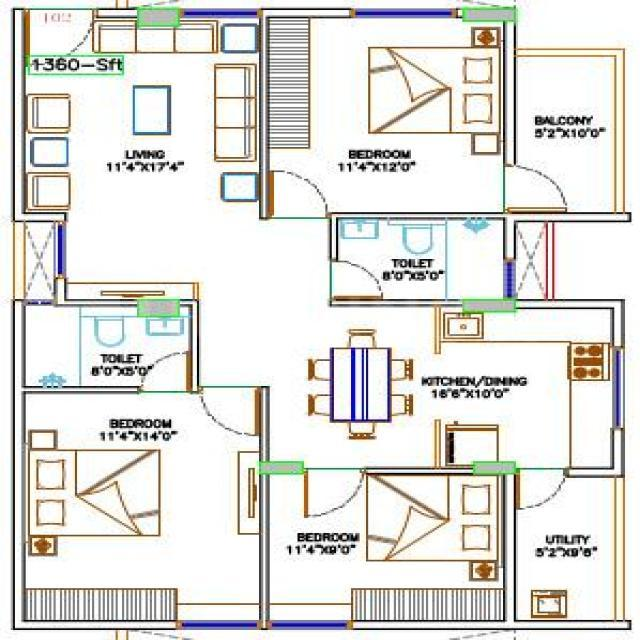Balcony-Sitout: (508, 58, 620, 210)
Bedroom: (267, 19, 504, 214), (272, 476, 500, 618)
Bedroom with Toilet: (19, 302, 267, 622)
Dining: (302, 325, 417, 450)
Enterance-Foyer: (19, 8, 95, 80)
Kitchen: (447, 308, 613, 468)
Living: (21, 10, 262, 301)
Toilet: (25, 305, 193, 395), (334, 222, 512, 295)
Utility: (515, 476, 623, 618)
